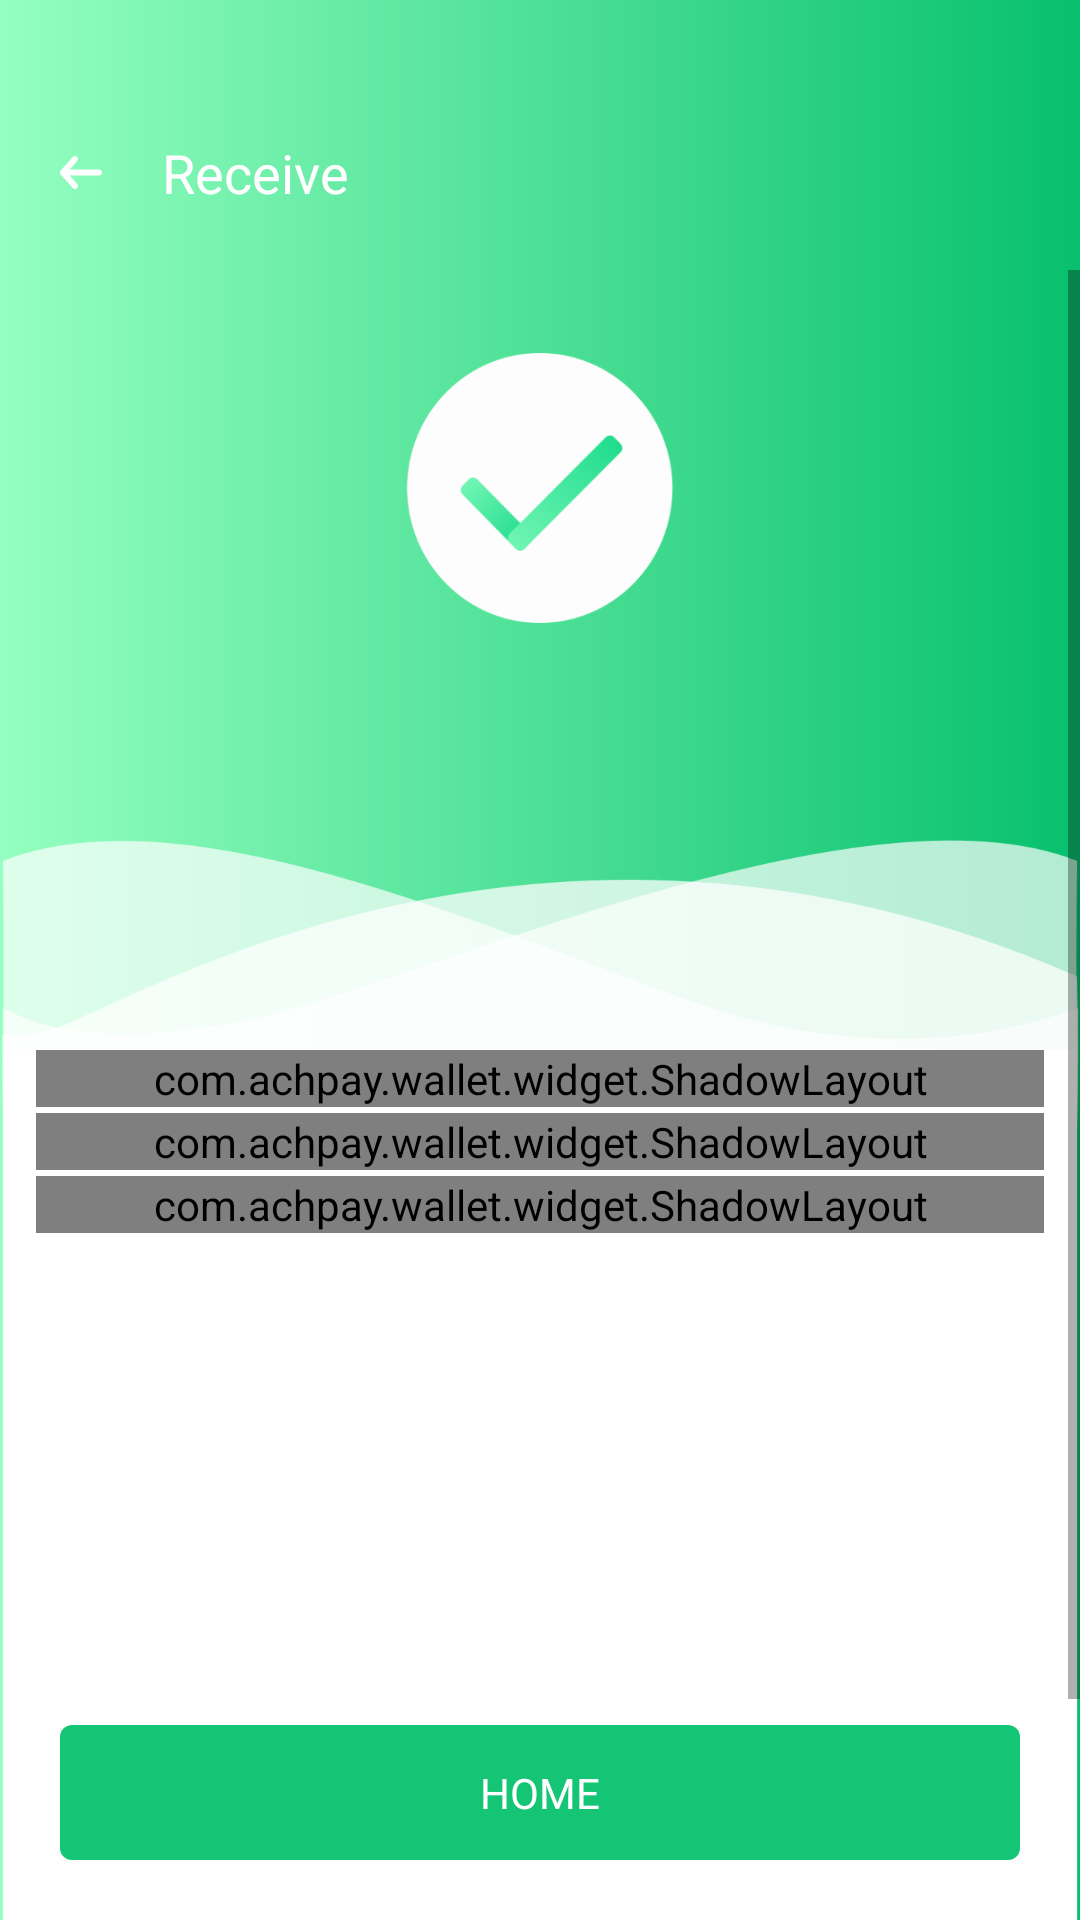

Screen size 1080x1920. Icon name, then its center in pixels as (x=x, y=y):
success: (x=540, y=488)
while back: (x=81, y=172)
